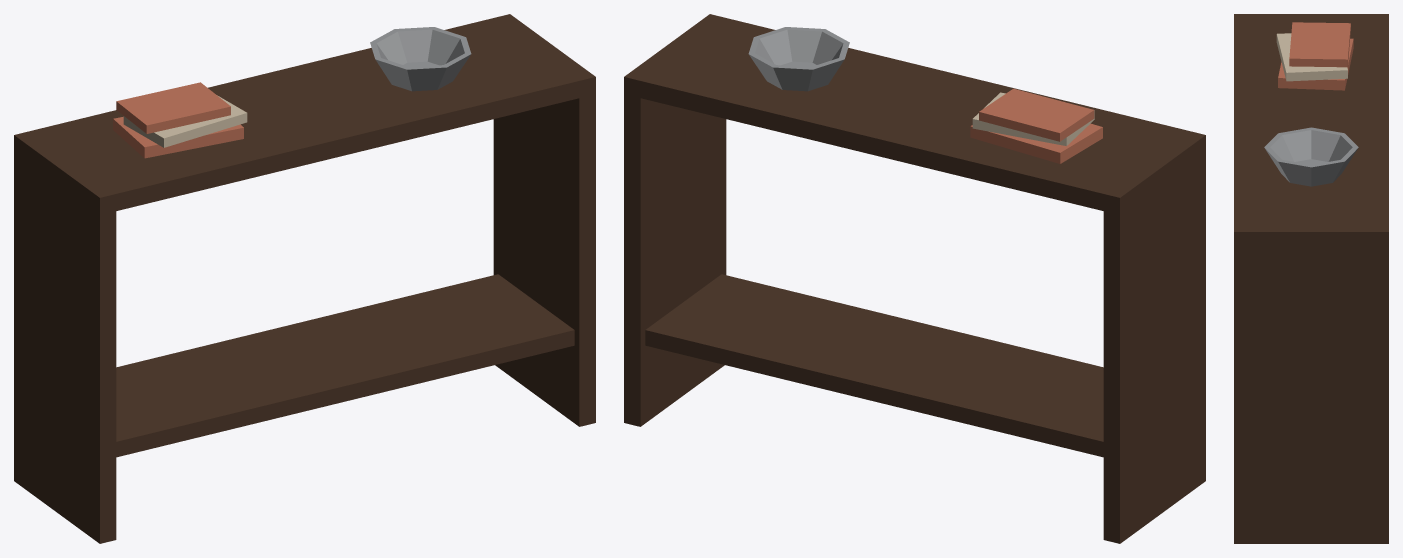
File: FN_Table_Console_Slab.glb
3 renders of one model, left to right at view 1: azimuth 30°, elevation 25°; view 2: azimuth 150°, elevation 25°; view 3: azimuth 270°, elevation 25°, orthographic. The views are drawn at different scales.
Visible parts, largest first — view 1: FN_Table_Console_Slab; view 2: FN_Table_Console_Slab; view 3: FN_Table_Console_Slab.
Part boxes in pixels (left/top/right/bottom): FN_Table_Console_Slab: left=14, top=14, right=595, bottom=543; FN_Table_Console_Slab: left=624, top=14, right=1205, bottom=543; FN_Table_Console_Slab: left=1234, top=14, right=1388, bottom=543.
Size of the model in its own units: 1.2 by 0.868 by 0.36.
1 material, 1 textured.
